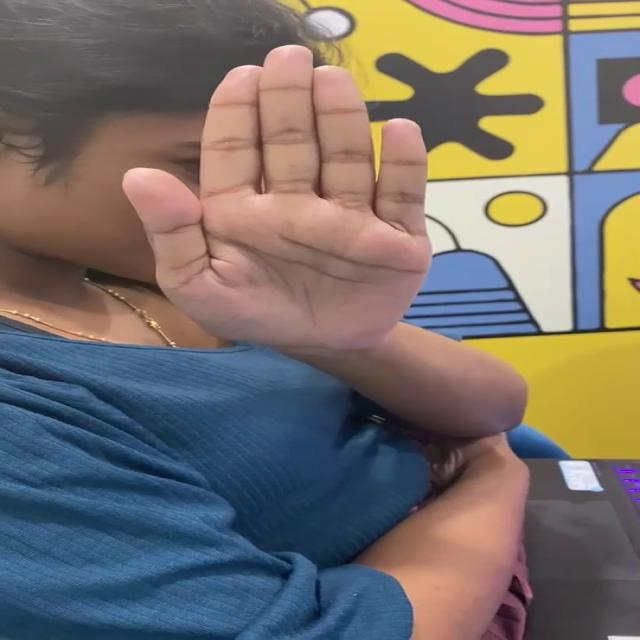no-gloves: (77, 41, 473, 362)
